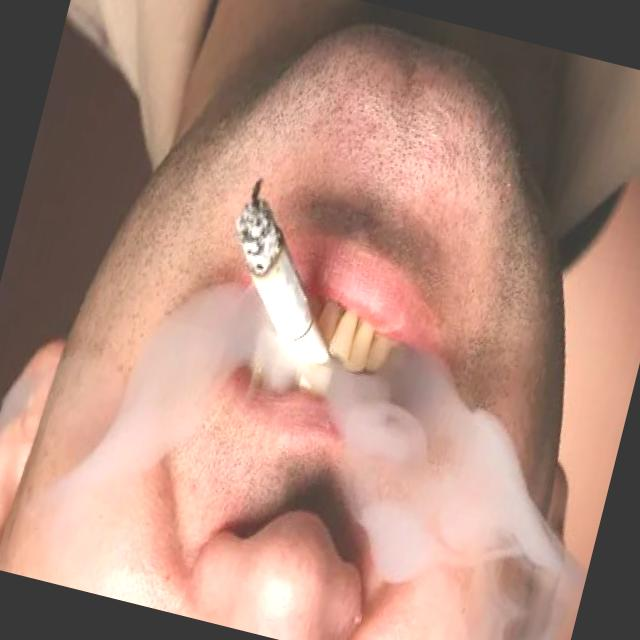smoke: (203, 170, 368, 379)
